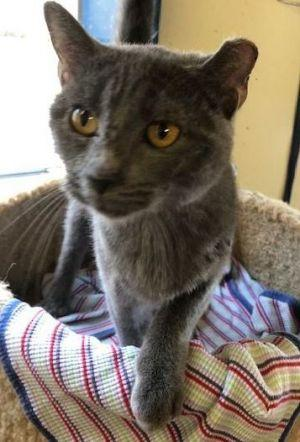rblue: (21, 2, 268, 237)
